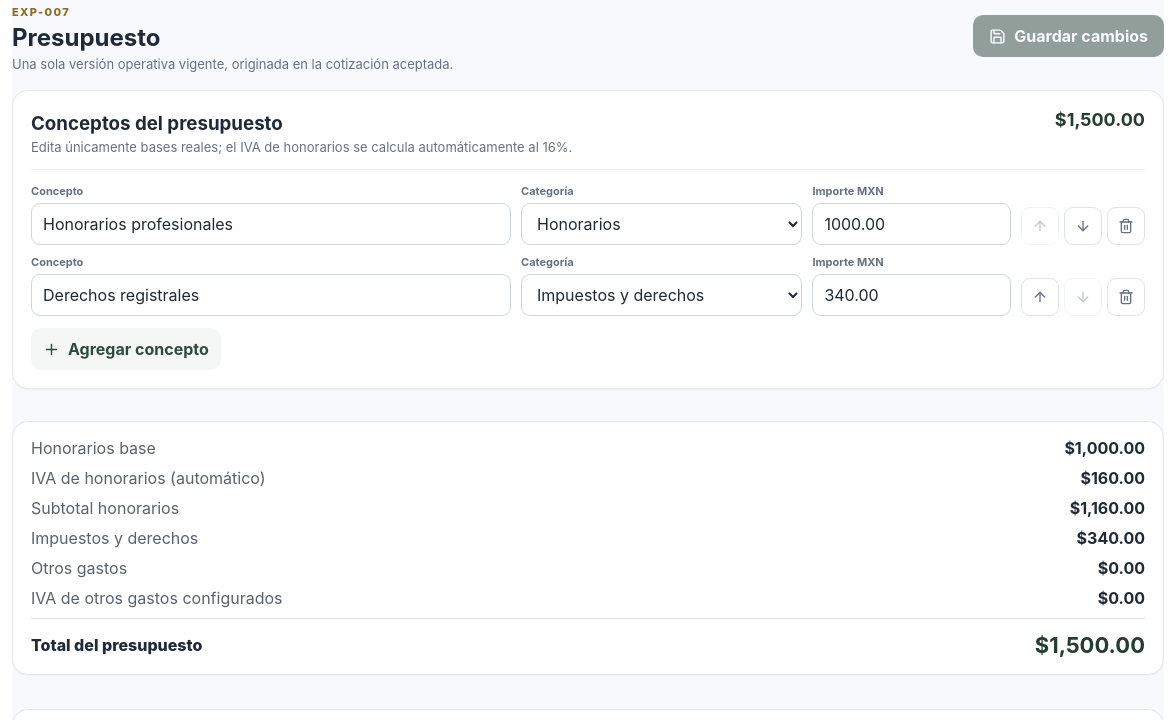
Test: EXP-007 · Presupuesto operativo UI › no deja visible el total anterior mientras un importe editado es inválido
Replace the text in the field named "Importe de Honorarios profesionales" with "importe inválido" at (912, 224), box [812, 203, 1011, 245]
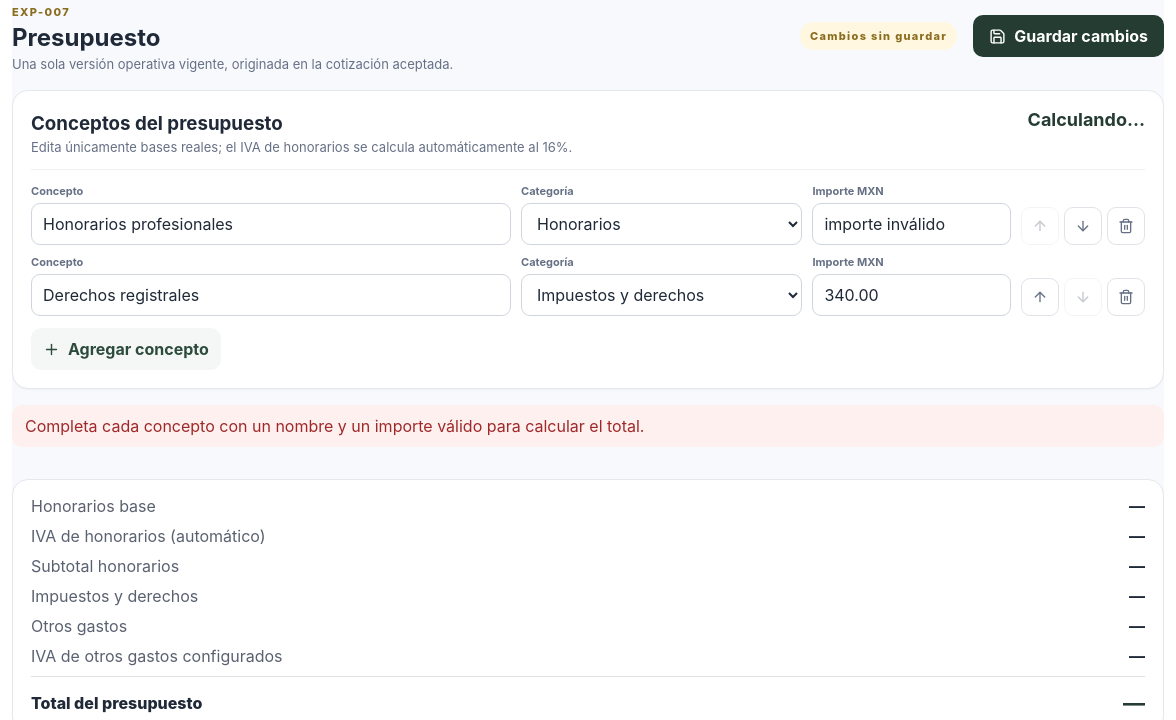
Expected: the text "Total del presupuesto" is shown, [31, 693, 202, 713]
Expected: the text "—" in the row of "Total del presupuesto" is shown, [1123, 690, 1145, 716]
Expected: the text "Completa cada concepto con un nombre y un importe válido" is shown, [25, 416, 644, 436]
